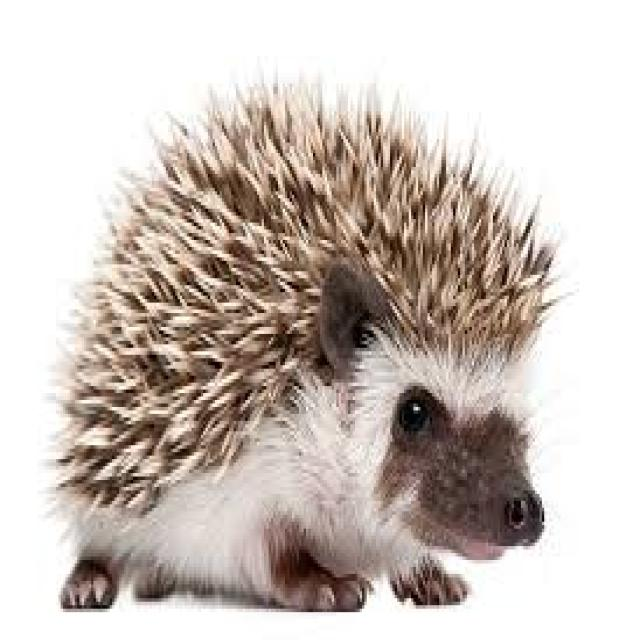Porcupine: (51, 88, 550, 605)
